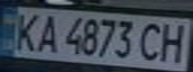3: (115, 17, 139, 60)
4: (60, 13, 84, 55)
7: (97, 16, 118, 57)
8: (78, 15, 100, 56)
A: (33, 11, 63, 54)
C: (136, 19, 169, 62)
H: (154, 20, 190, 63)
K: (6, 9, 45, 53)
